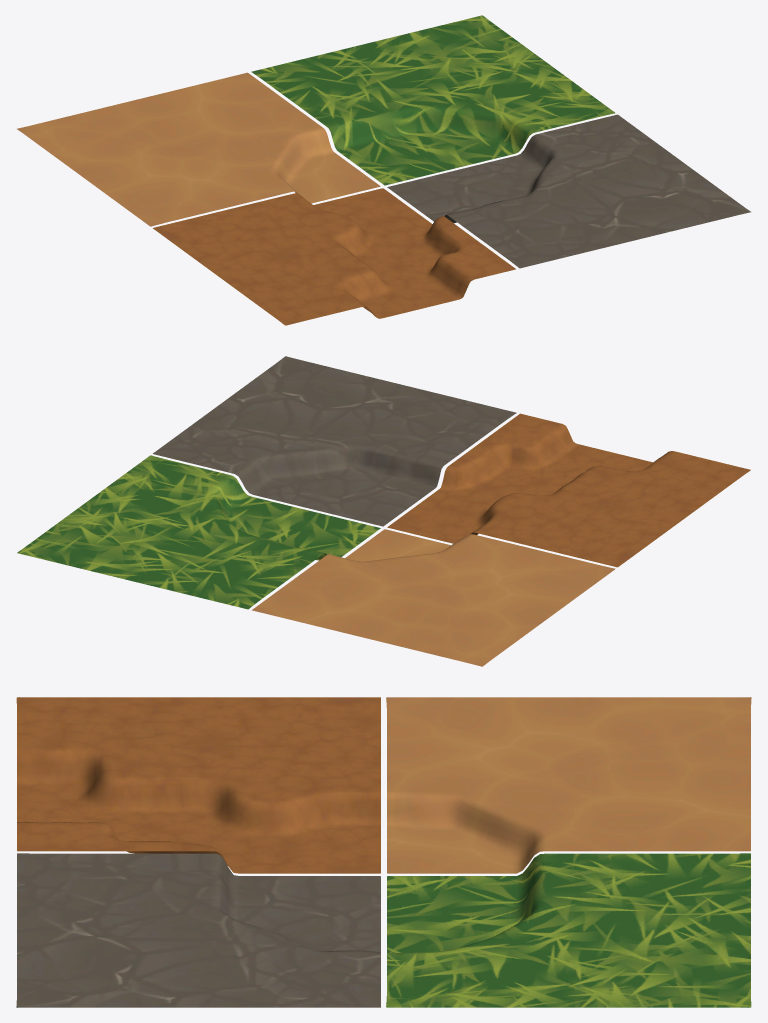
Rendered from TutorialLevel_Terrain_VillagePart.fbx.
3 views of the same model, one above another, from view 1: azimuth 30°, elevation 25°; view 2: azimuth 150°, elevation 25°; view 3: azimuth 270°, elevation 25° (orthographic). The views are drawn at different scales.
Parts seen in each view (by area): view 1: TutorialLevel_Terrain_VillagePart; view 2: TutorialLevel_Terrain_VillagePart; view 3: TutorialLevel_Terrain_VillagePart.
Boxes of the visible parts, left/top/right/bottom form: TutorialLevel_Terrain_VillagePart: left=17, top=15, right=750, bottom=325; TutorialLevel_Terrain_VillagePart: left=17, top=356, right=750, bottom=666; TutorialLevel_Terrain_VillagePart: left=16, top=697, right=751, bottom=1007.
Size of the model in its own units: 150 by 5 by 150.
Materials: 1 (1 with a texture image).
